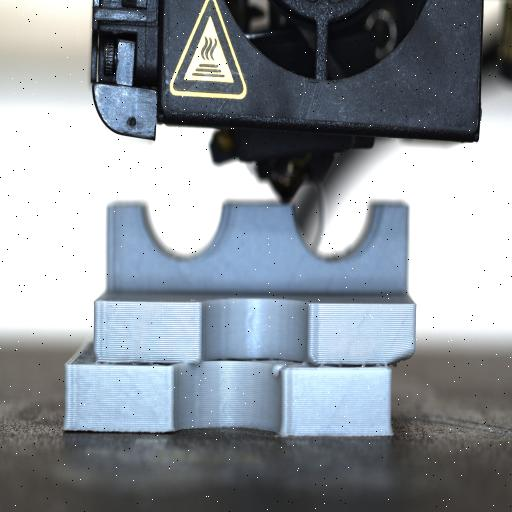layer_shift: (58, 346, 418, 372)
